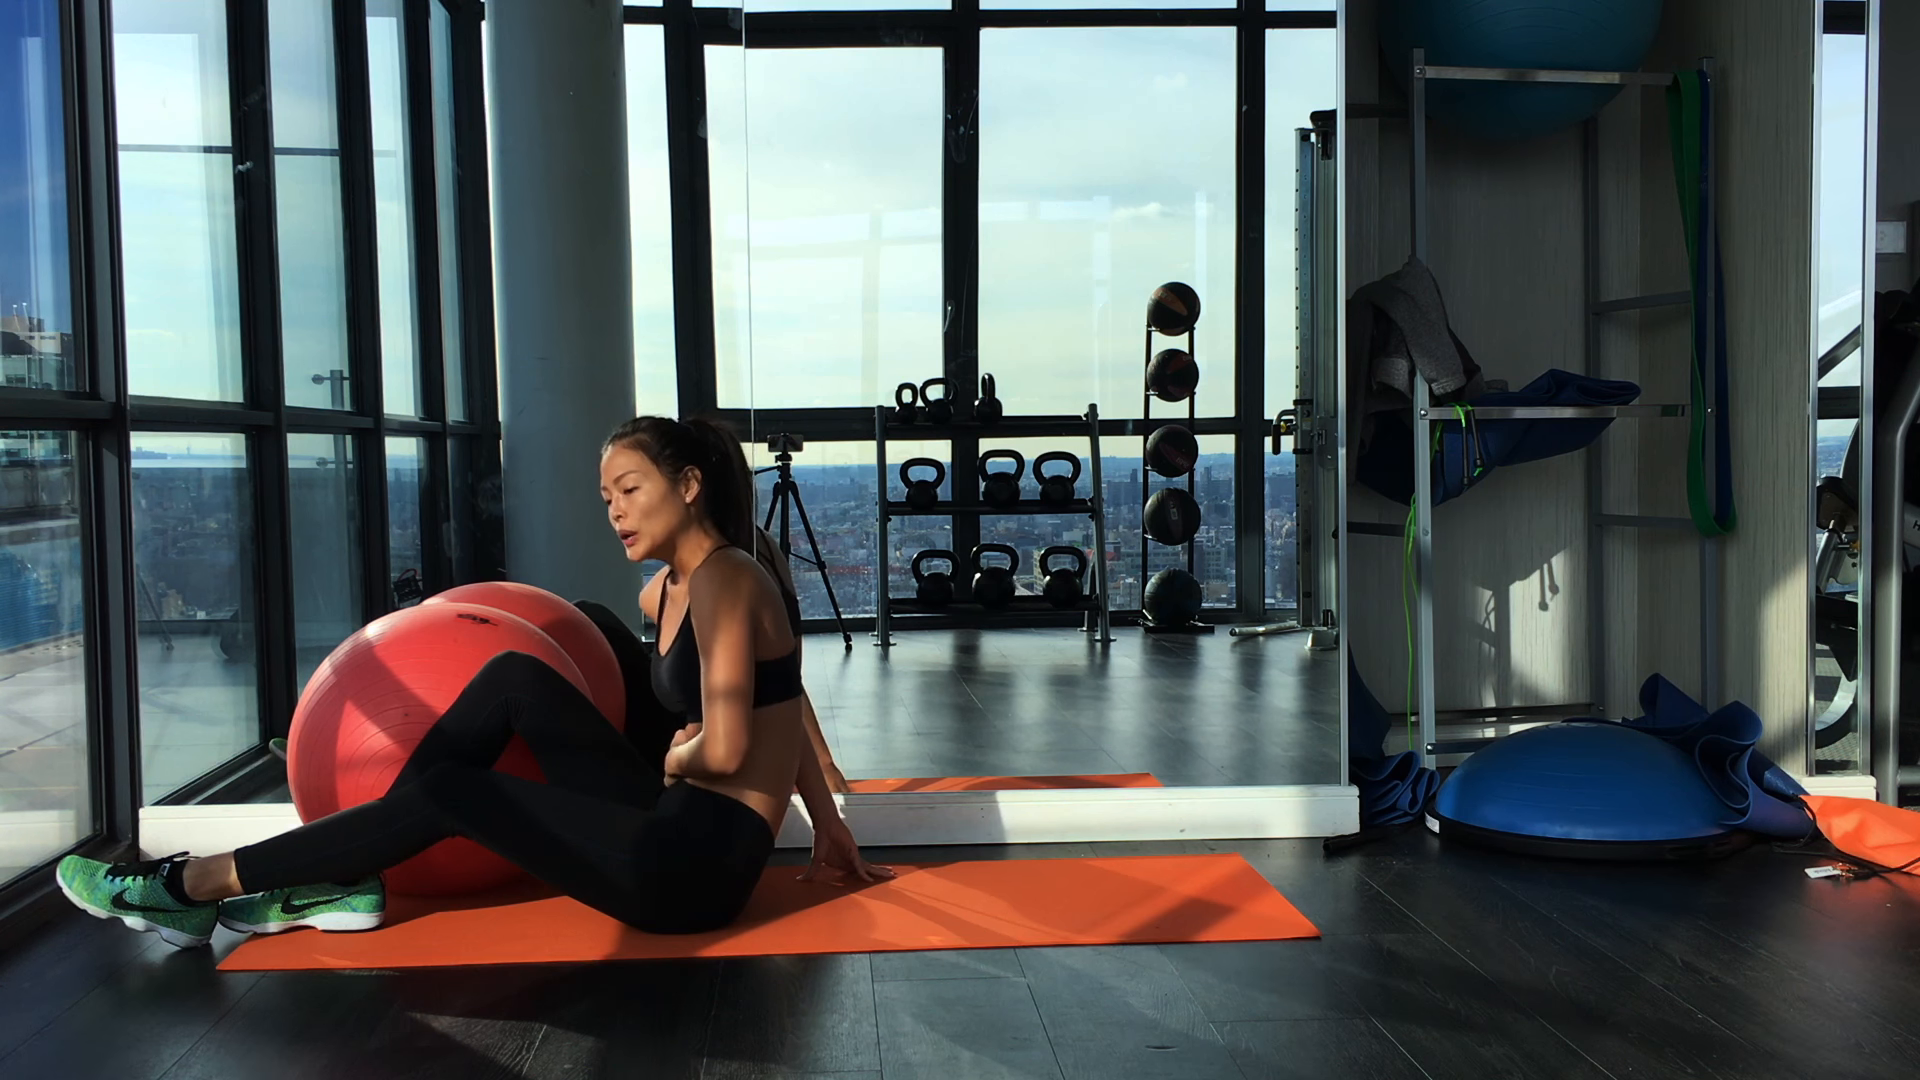yogaball: (276, 597, 615, 909)
